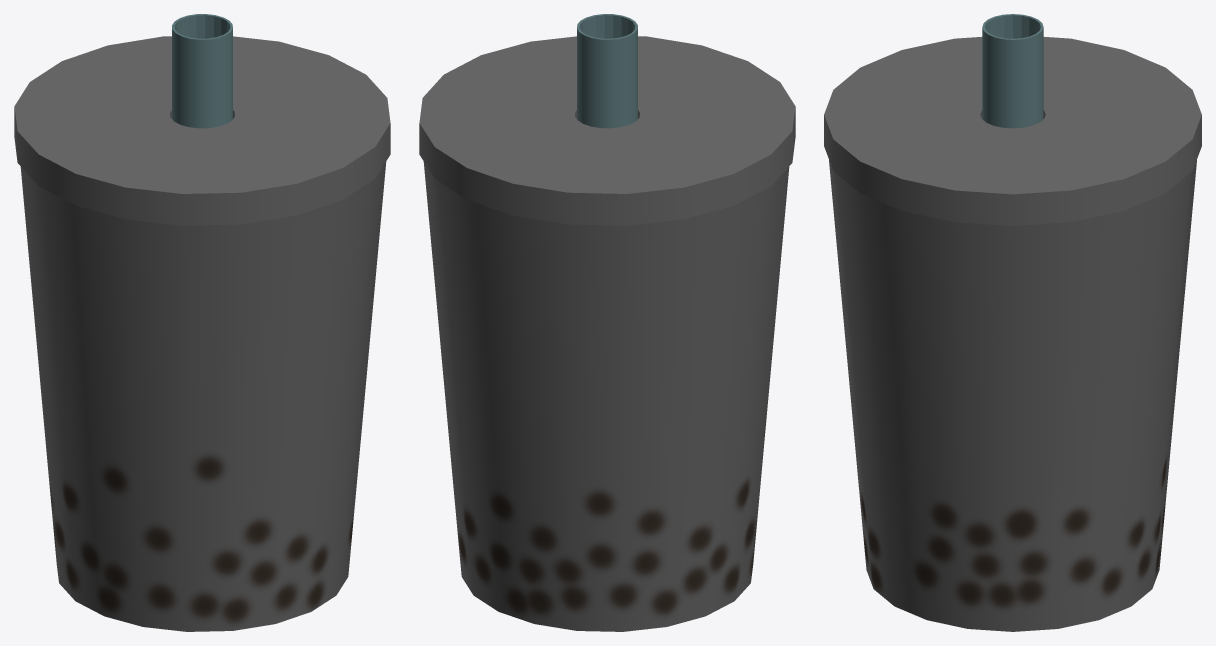
Rendered from BBT.glb.
3 views of the same model, side by side, from view 1: azimuth 30°, elevation 25°; view 2: azimuth 150°, elevation 25°; view 3: azimuth 270°, elevation 25° (orthographic).
Parts seen in each view (by area): view 1: polySurface2; view 2: polySurface2; view 3: polySurface2.
Part boxes in pixels (bbox=[...]): polySurface2: bbox=[14, 14, 390, 631]; polySurface2: bbox=[419, 14, 795, 631]; polySurface2: bbox=[824, 14, 1201, 631].
Size of the model in its own units: 0.108 by 0.1713 by 0.108.
4 materials, 1 textured.
